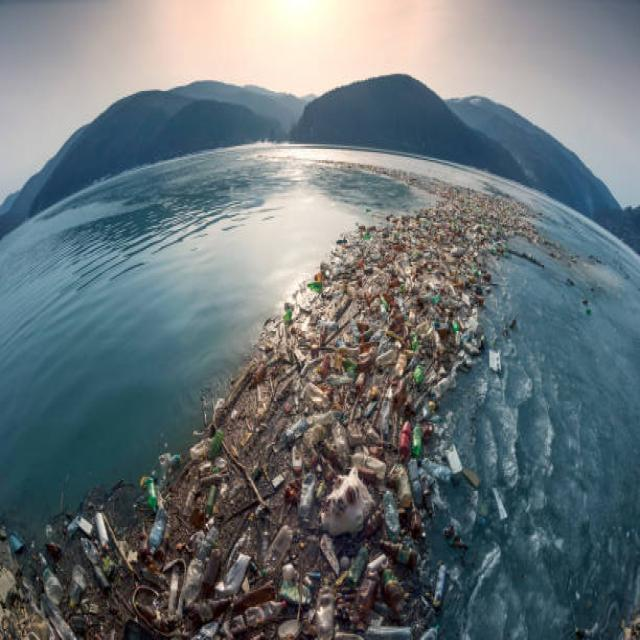plastic: (372, 232, 450, 632), (139, 512, 345, 610)
